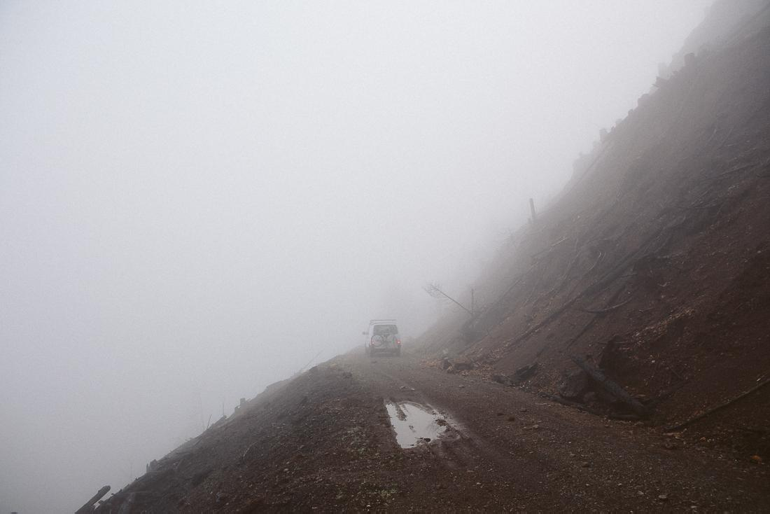bicycle: (371, 328, 401, 350)
car: (362, 318, 403, 359)
